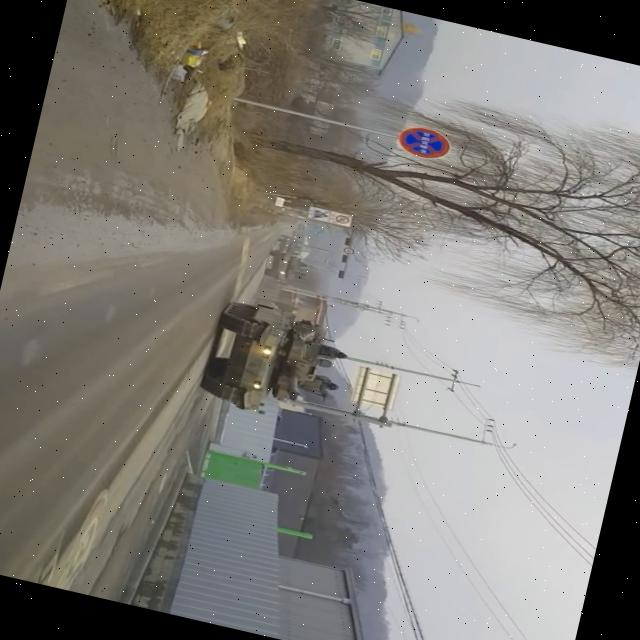korea tank: (192, 292, 358, 430)
